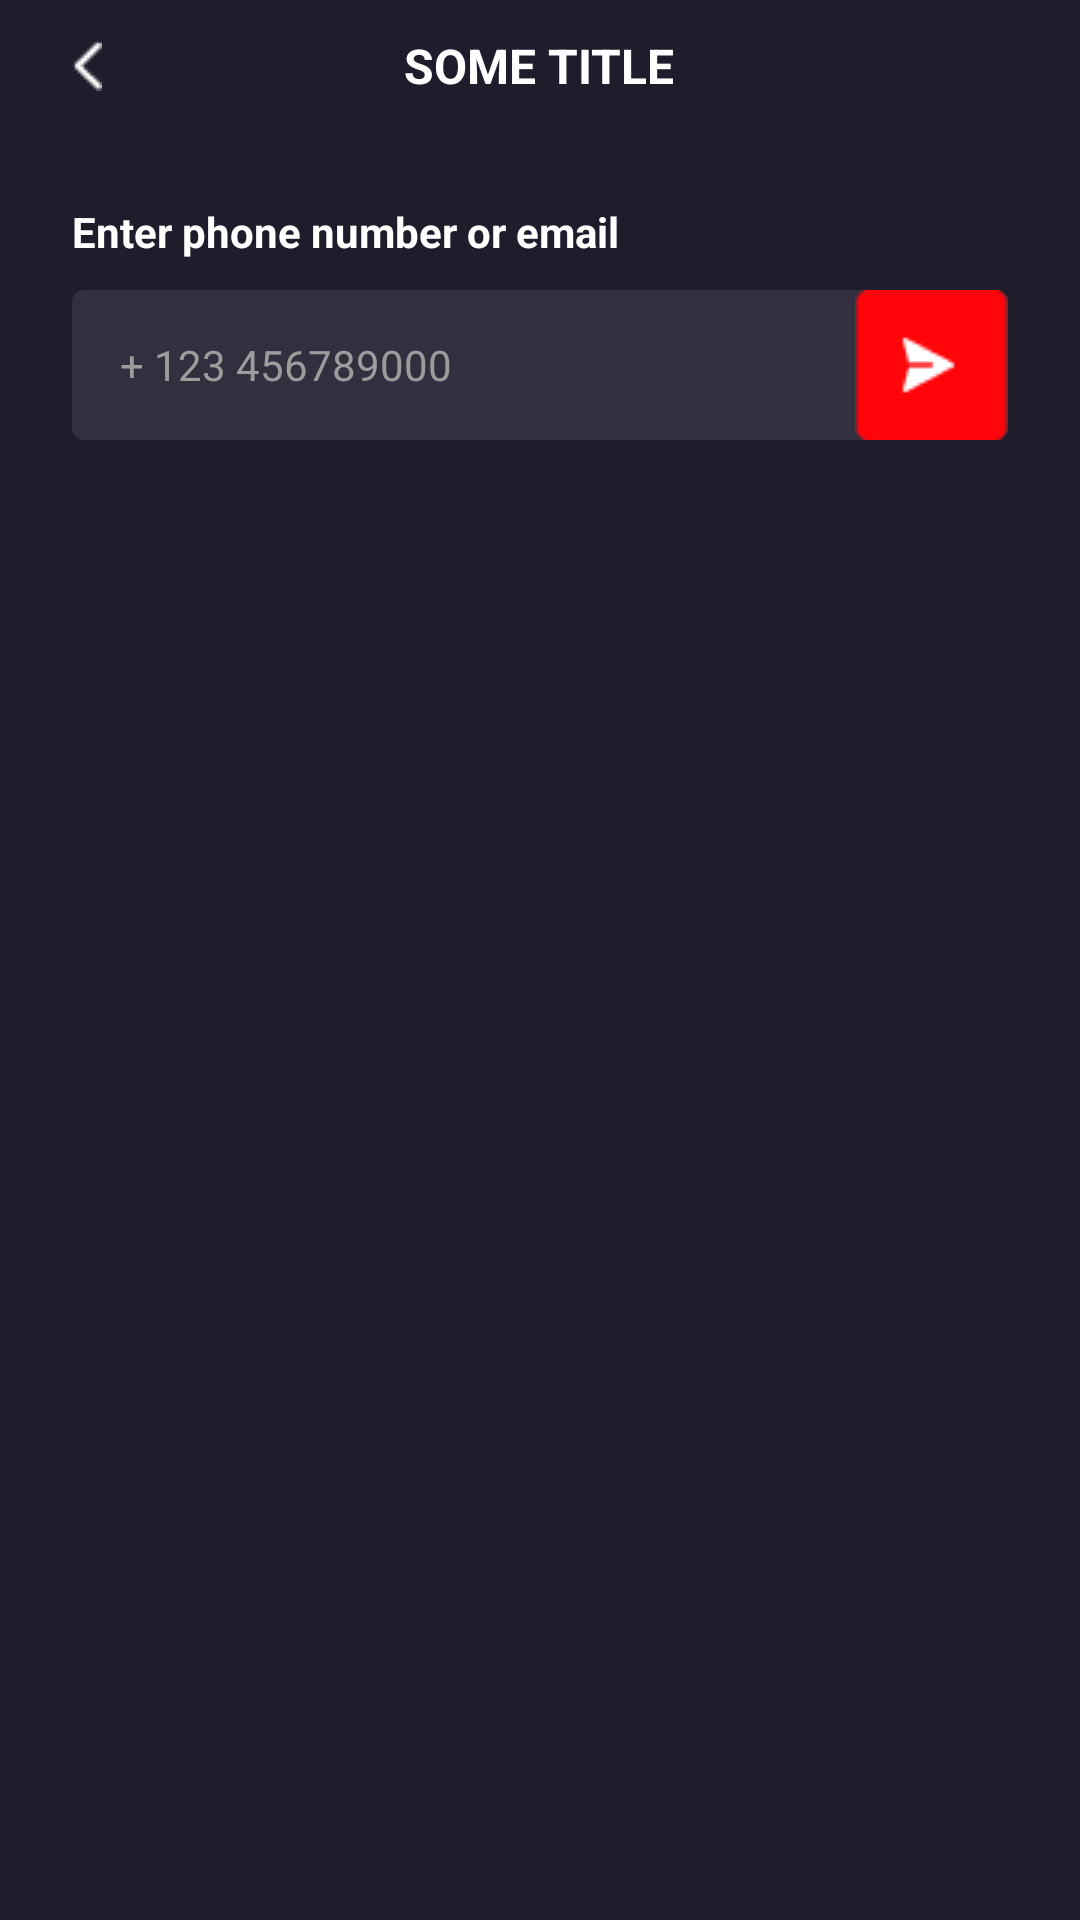

Icons on this 1080x1920 Android screen, each with its box as box(x1, y1, x2, y2):
back: box(74, 42, 102, 91)
